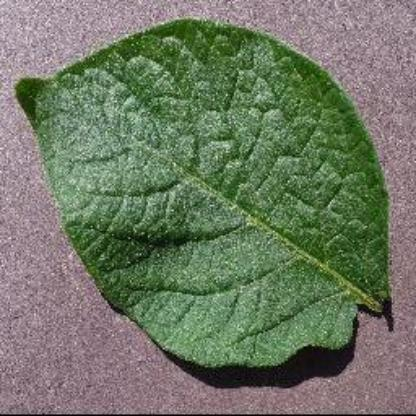Healthy-plant: (10, 22, 408, 382)
